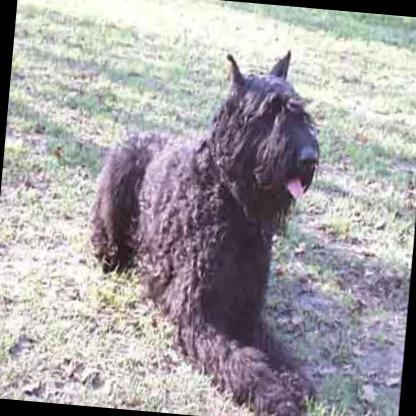Bouvier_des_Flandres: (69, 30, 346, 416)
